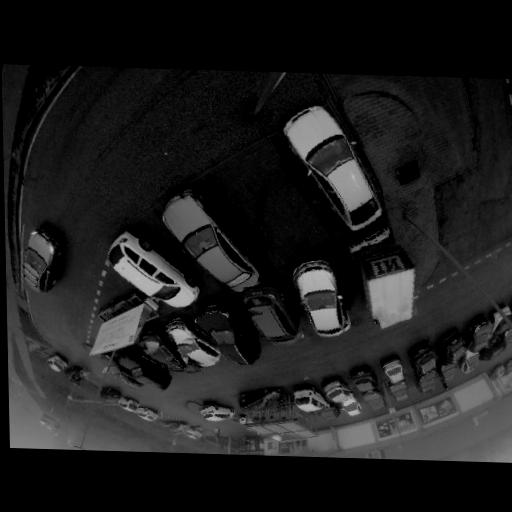busy: (282, 95, 386, 245), (163, 187, 260, 293), (107, 229, 196, 302), (352, 239, 425, 324), (287, 257, 356, 340), (236, 281, 303, 347), (198, 303, 262, 364), (16, 225, 66, 295), (165, 315, 220, 368), (118, 348, 170, 391), (141, 330, 192, 373), (349, 364, 384, 404), (408, 341, 442, 382), (237, 386, 287, 413), (321, 376, 357, 410), (462, 315, 494, 353), (439, 330, 470, 365), (199, 399, 237, 425), (292, 385, 327, 412), (381, 357, 408, 384), (169, 419, 205, 439), (133, 404, 162, 423), (46, 353, 72, 373), (178, 425, 207, 440), (101, 388, 125, 405), (117, 397, 138, 413)
free: (239, 166, 309, 252)
